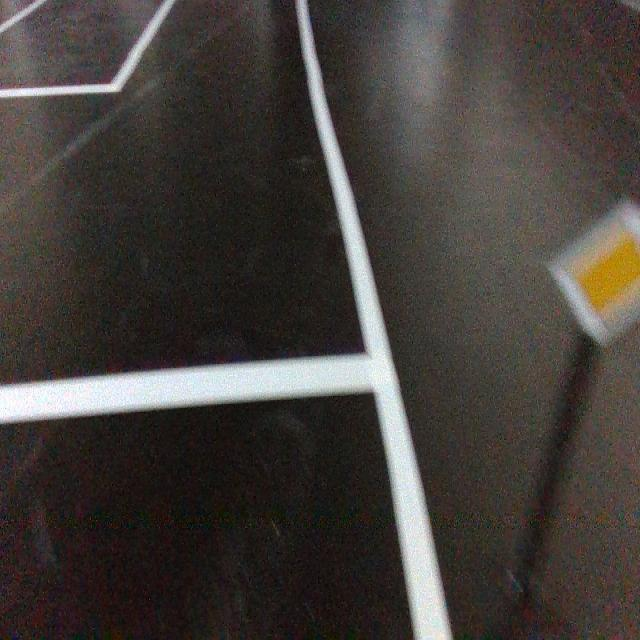priority-sign: (543, 192, 640, 351)
